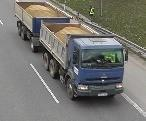Truck: (14, 0, 128, 101)
